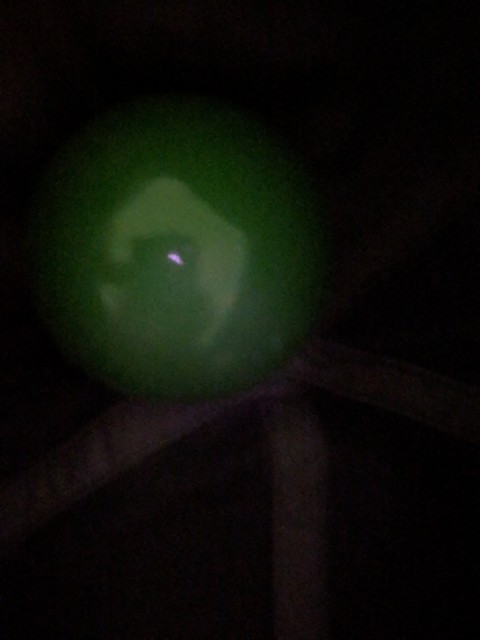ball: (28, 91, 312, 393)
